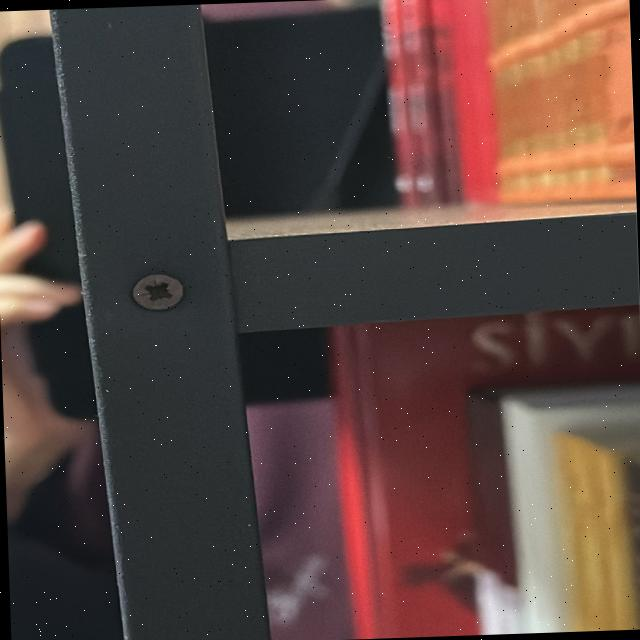Pozidriv: (122, 273, 187, 320)
